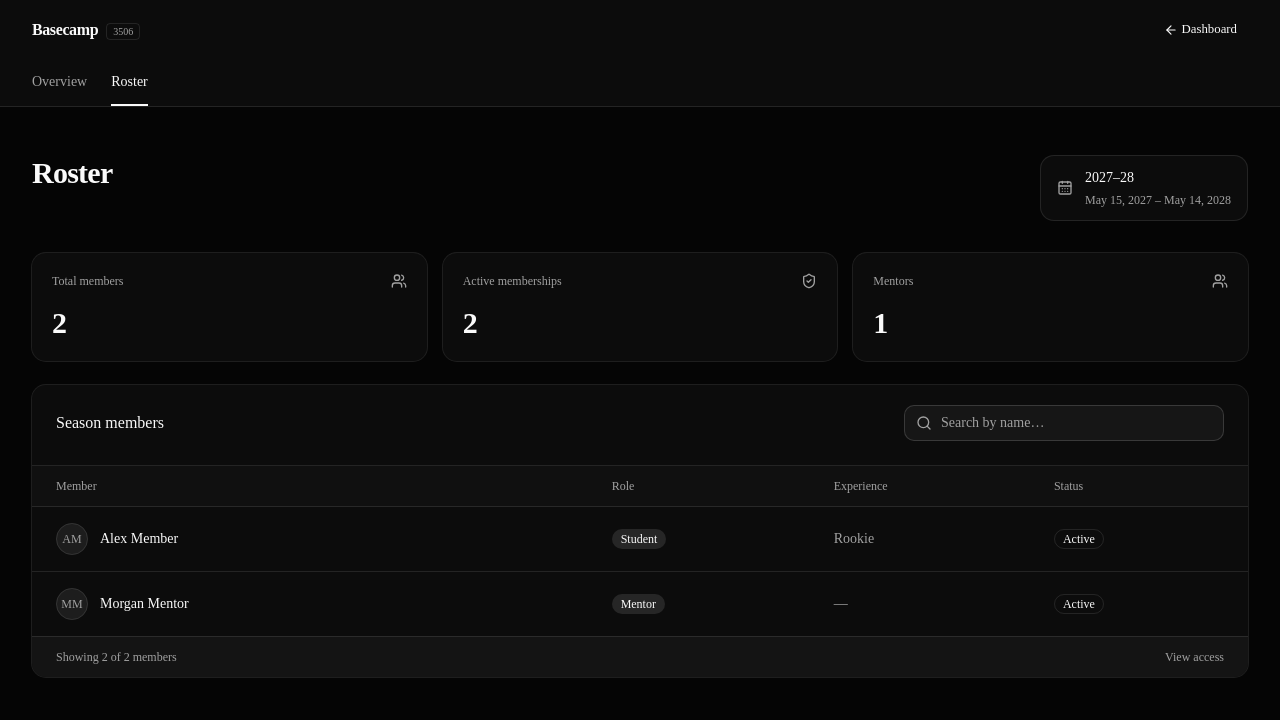
shows all members for an empty or whitespace-only search ()
Type "Alex" into the search field named "Search members" at (1064, 423), box [904, 405, 1224, 441]
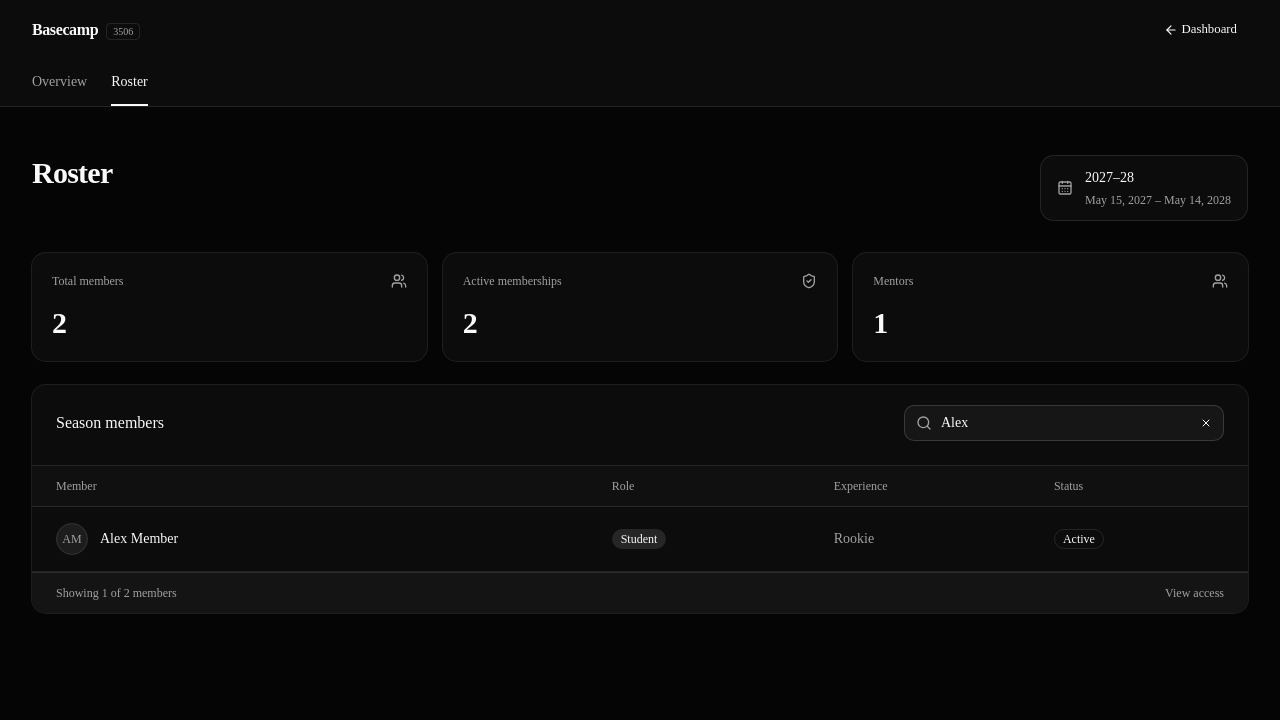
Expected: the text "Morgan Mentor" is gone
Clear the search field named "Search members" at (1064, 423), box [904, 405, 1224, 441]
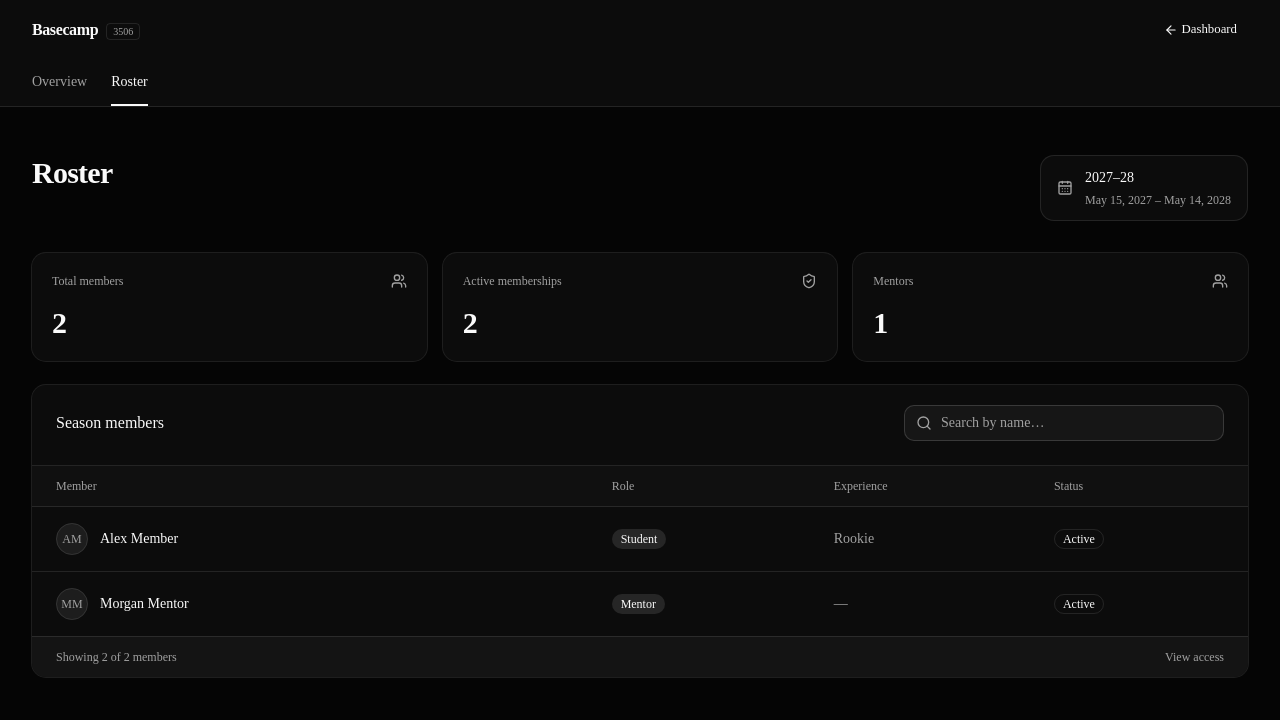
Expected: the text "Alex Member" is shown, [100, 531, 178, 546]
Expected: the text "Morgan Mentor" is shown, [100, 596, 189, 611]
